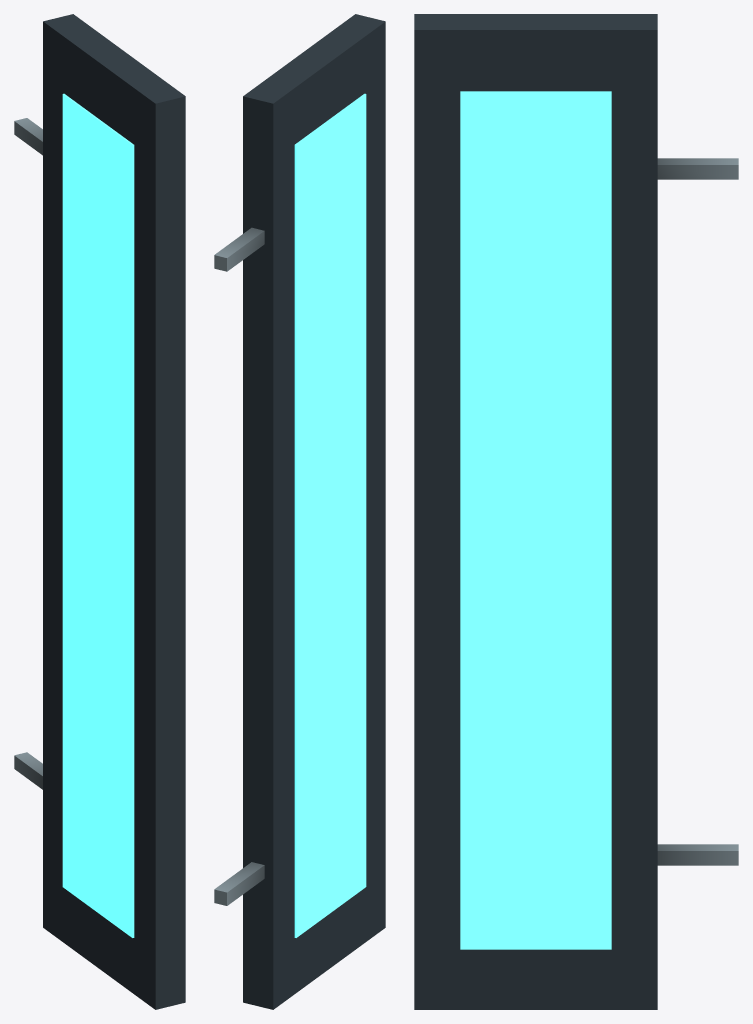
The model's file is neon-blade.lod2.glb.
The picture shows the model from 3 angles, left to right: view 1: azimuth 30°, elevation 25°; view 2: azimuth 150°, elevation 25°; view 3: azimuth 270°, elevation 25°; orthographic projection. The views are drawn at different scales.
Parts seen in each view (by area): view 1: structure; view 2: structure; view 3: structure.
Boxes of the visible parts, x1,y1,x2,y2 form: structure: [14, 14, 185, 1009]; structure: [214, 14, 385, 1009]; structure: [414, 14, 738, 1009].
Bounding box in the file's own units: 0.156 × 4 × 1.2.
